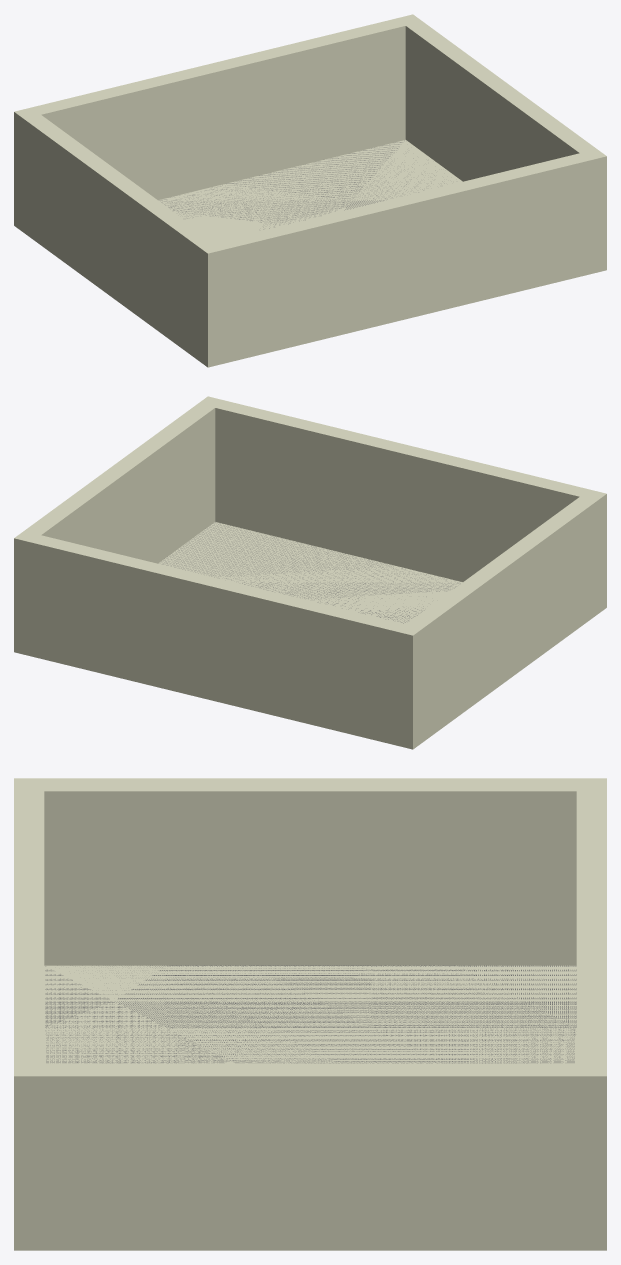
File: AVG.dae
The picture shows the model from 3 angles, top to bottom: view 1: azimuth 30°, elevation 25°; view 2: azimuth 150°, elevation 25°; view 3: azimuth 270°, elevation 25°; orthographic projection. The views are drawn at different scales.
Visible parts, largest first — view 1: SketchUp (×3); view 2: SketchUp (×3); view 3: SketchUp (×3).
Boxes of the visible parts, <box> form: SketchUp (×3): <box>14,14,606,367</box>; SketchUp (×3): <box>14,396,606,749</box>; SketchUp (×3): <box>14,778,606,1250</box>.
Size of the model in its own units: 47.9 by 40.31 by 13.07.
